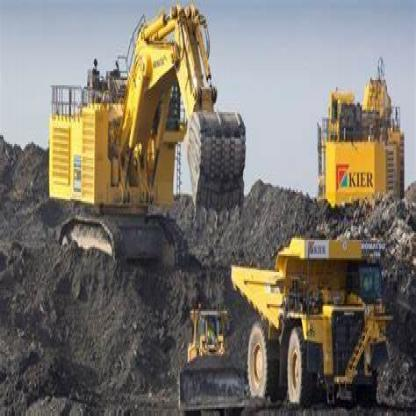bull_dozer/loader/grader: (164, 286, 256, 407)
dump_truck: (230, 198, 402, 414)
excavator: (36, 5, 259, 281), (307, 74, 411, 242)
